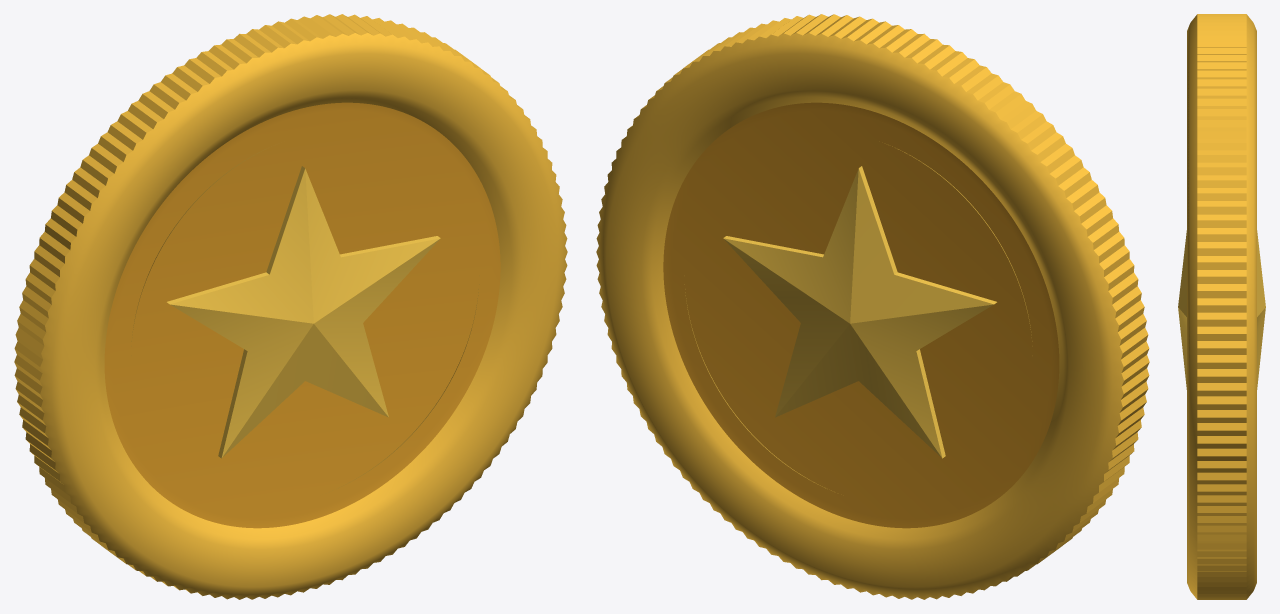
File: coin-gold.glb
3 views of the same model, side by side, from view 1: azimuth 30°, elevation 25°; view 2: azimuth 150°, elevation 25°; view 3: azimuth 270°, elevation 25° (orthographic). The views are drawn at different scales.
Parts seen in each view (by area): view 1: Coin; view 2: Coin; view 3: Coin.
Boxes of the visible parts, x1,y1,x2,y2 form: Coin: (14, 14, 567, 599); Coin: (596, 14, 1149, 599); Coin: (1178, 14, 1265, 599).
Size of the model in its own units: 1 by 1 by 0.15.
